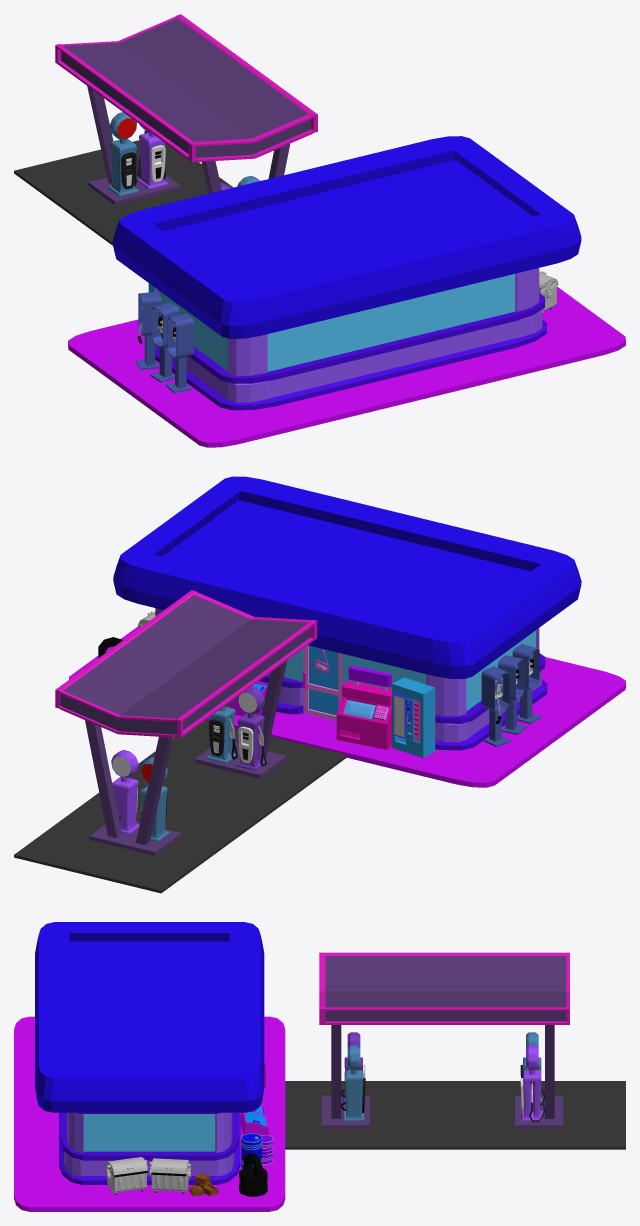
The model's file is gas_station_as_SAMPLE_colored.fbx.
The picture shows the model from 3 angles, top to bottom: view 1: azimuth 30°, elevation 25°; view 2: azimuth 150°, elevation 25°; view 3: azimuth 270°, elevation 25°; orthographic projection. The views are drawn at different scales.
Visible parts, largest first — view 1: store, gas, Plane.013, Plane.012, Plane.014; view 2: store, gas, Plane.010, Plane.009, door, Plane.014, Plane.013, Plane.012; view 3: store, gas, Plane.007, Plane.008, wheel, Plane.011, barrel.001.
Part boxes in pixels (left/top/right/bottom): store: left=68, top=136, right=625, bottom=447; gas: left=14, top=14, right=317, bottom=245; Plane.013: left=165, top=313, right=193, bottom=393; Plane.012: left=150, top=302, right=179, bottom=382; Plane.014: left=136, top=291, right=161, bottom=369; store: left=69, top=476, right=625, bottom=787; gas: left=14, top=590, right=346, bottom=893; Plane.010: left=336, top=666, right=391, bottom=749; Plane.009: left=392, top=677, right=435, bottom=757; door: left=303, top=645, right=342, bottom=720; Plane.014: left=481, top=666, right=510, bottom=747; Plane.013: left=512, top=644, right=541, bottom=724; Plane.012: left=498, top=655, right=526, bottom=734; store: left=14, top=922, right=285, bottom=1211; gas: left=285, top=952, right=625, bottom=1149; Plane.007: left=106, top=1157, right=147, bottom=1194; Plane.008: left=149, top=1158, right=191, bottom=1193; wheel: left=239, top=1153, right=267, bottom=1196; Plane.011: left=240, top=1104, right=268, bottom=1135; barrel.001: left=241, top=1133, right=262, bottom=1168.
Size of the model in its own units: 8334 by 2787 by 11301.
